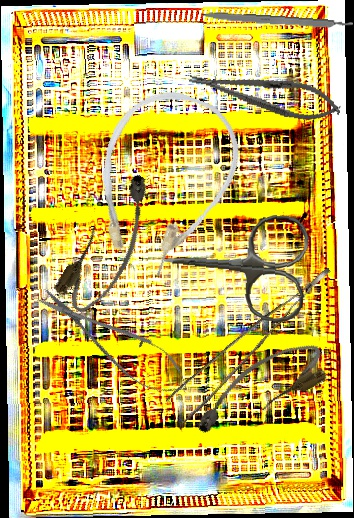Cannula: (70, 75, 255, 289), (50, 168, 171, 320), (182, 333, 334, 443)
Iris Scissors: (159, 206, 311, 324)
Micro Scissor: (28, 275, 200, 409)
Needle Holder: (185, 59, 345, 128)
Scalpel Handle: (201, 10, 354, 32)
Tissue Forceps: (158, 267, 353, 424)
